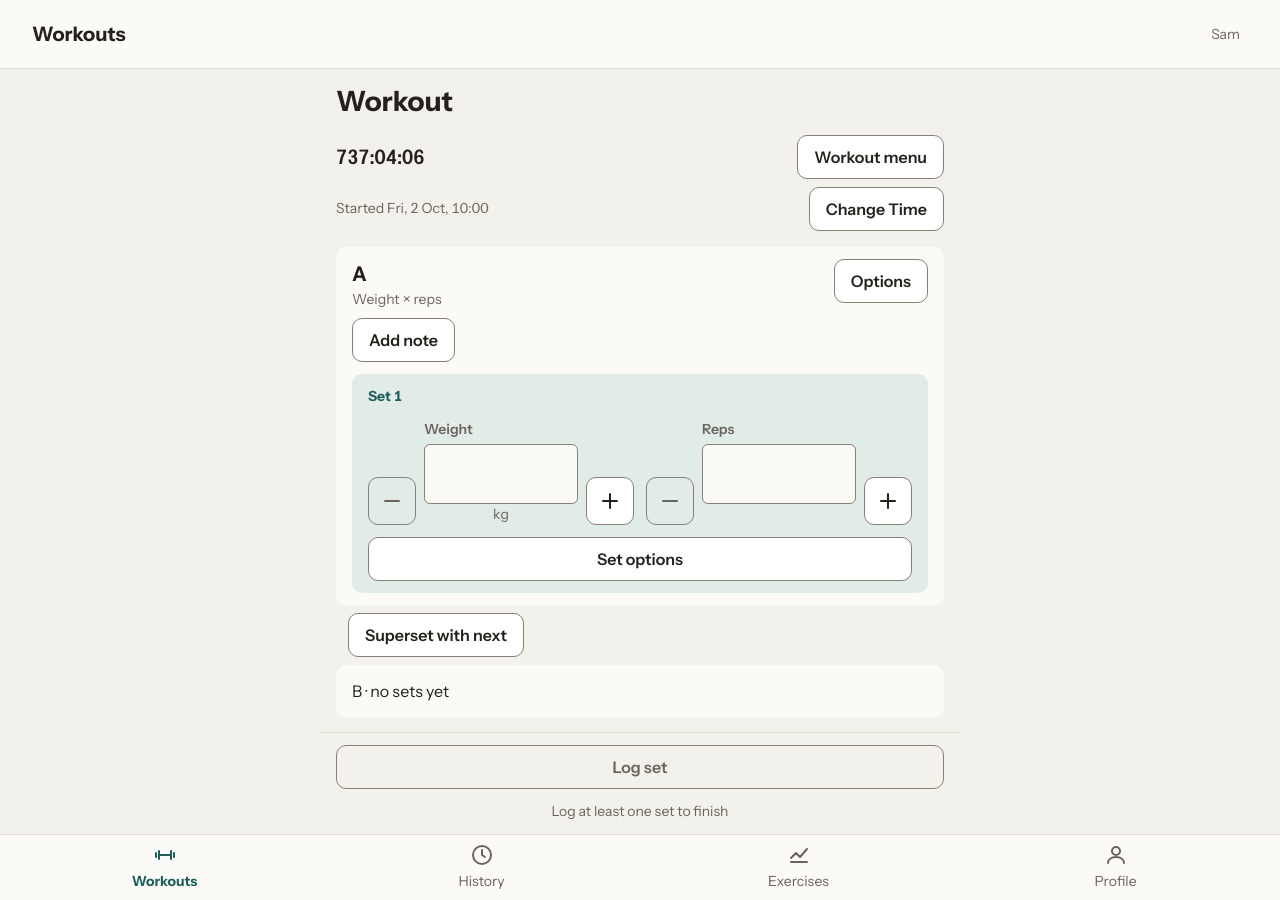
Test case: 10.1 AC23 — a mid-plan failure stops, refetches once, and shows the truth › 409 workout-finished hands back to Workouts
Expected: the heading "Workout" is shown, [336,84,453,118]
What coordinates should you click on to do the following:
click the button "Superset with next"
I would click on:
 (436, 635)
Its box is [348,613,524,657].
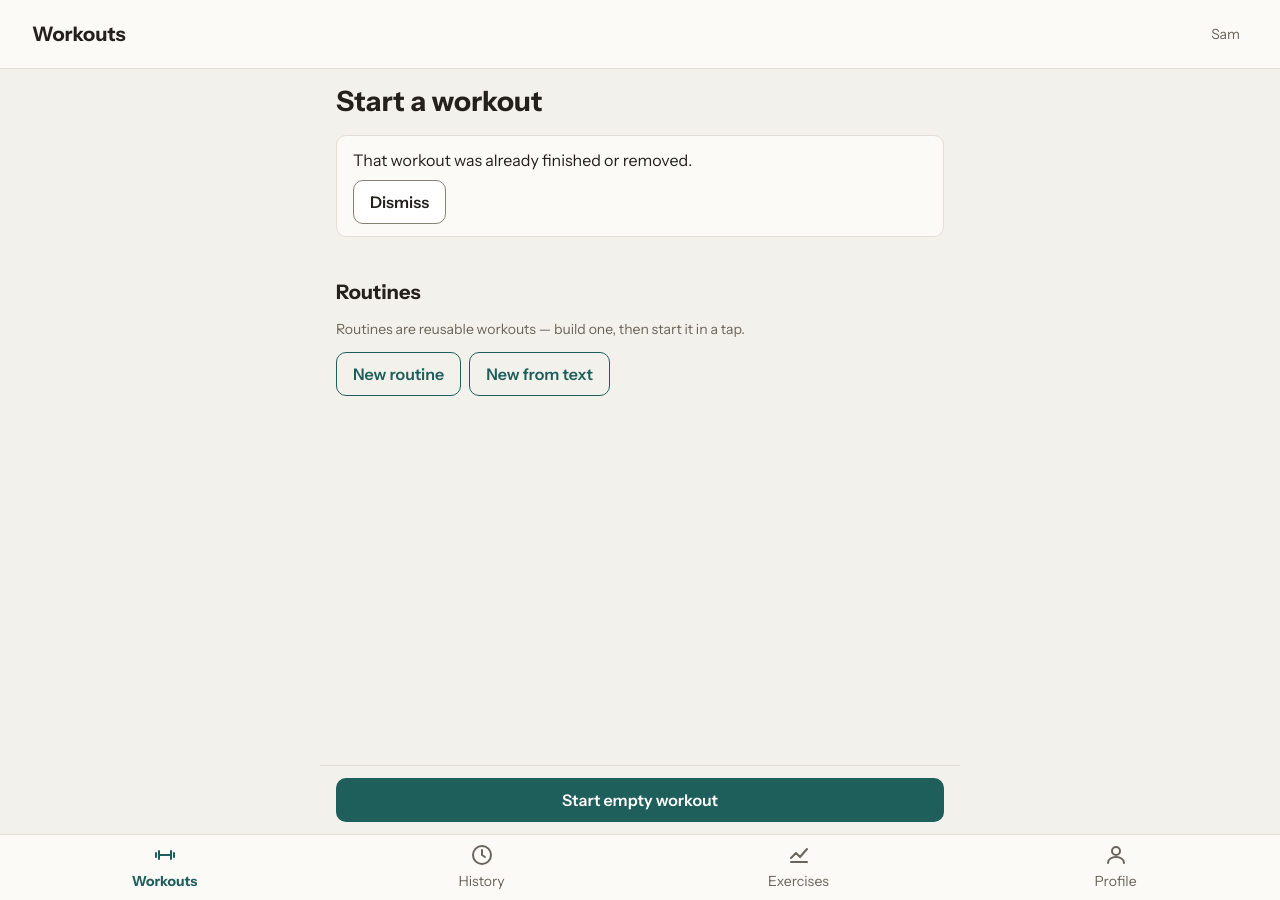
Expected: the heading "Start a workout" is shown, [336,84,542,118]
